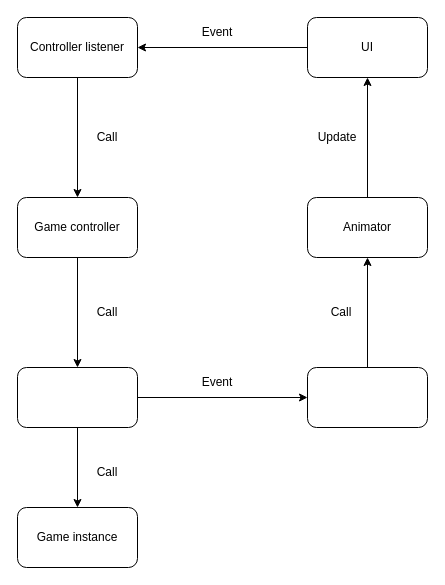
The diagram is 445 pixels wide and 585 high, and some of its shapes have lost their labels. Each missing label, with the box of its shape:
Game model: (16, 366, 138, 428)
View listener: (306, 366, 428, 428)
